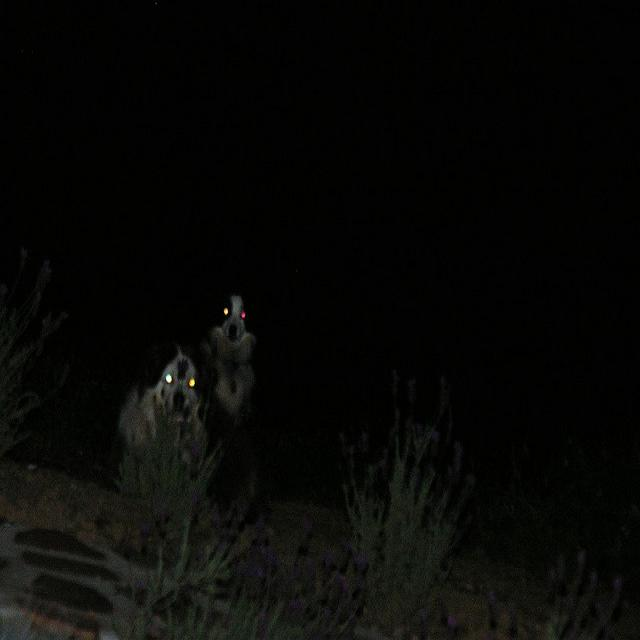Dog: (113, 274, 304, 532)
